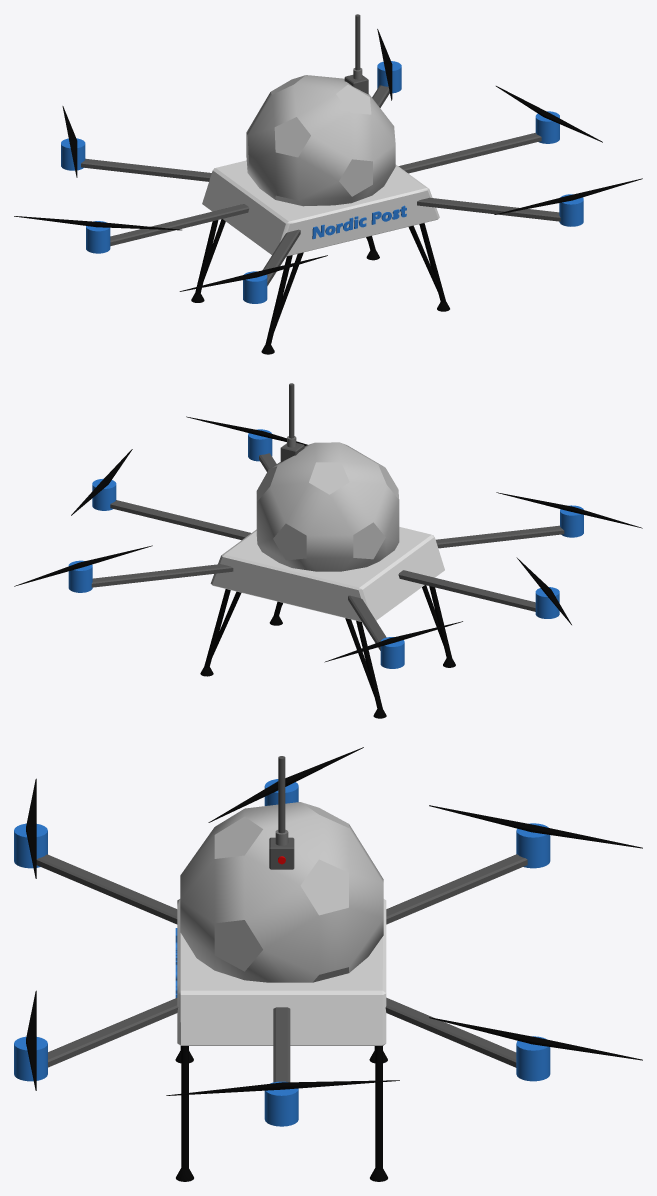
File: Nordic Post Drone.fbx
3 views of the same model, one above another, from view 1: azimuth 30°, elevation 25°; view 2: azimuth 150°, elevation 25°; view 3: azimuth 270°, elevation 25° (orthographic). The views are drawn at different scales.
Parts seen in each view (by area): view 1: pPlatonic1, pCube5, pCube2, pCube4, pCube3, typeMesh1, pCylinder3, pCylinder4, pCylinder8, pCube9, pCylinder7, pCylinder5 (+5 smaller); view 2: pPlatonic1, pCube5, pCube2, pCube3, pCube4, pCylinder5, pCylinder6, pCylinder3, pCylinder4, pCylinder7, pCylinder8, pCube8 (+3 smaller); view 3: pPlatonic1, pCube5, pCube3, pCube4, pCube2, pCylinder7, pCylinder6, pCylinder5, pCylinder8, pCube10, pCube13, pCube12 (+8 smaller).
Part boxes in pixels (bbox=[...]): pPlatonic1: bbox=[246, 75, 395, 206]; pCube5: bbox=[202, 160, 439, 256]; pCube2: bbox=[110, 133, 541, 246]; pCube4: bbox=[81, 158, 560, 221]; pCube3: bbox=[263, 85, 389, 285]; typeMesh1: bbox=[312, 205, 406, 239]; pCylinder3: bbox=[243, 271, 267, 303]; pCylinder4: bbox=[86, 221, 110, 253]; pCylinder8: bbox=[559, 194, 583, 226]; pCube9: bbox=[14, 216, 181, 230]; pCylinder7: bbox=[535, 111, 559, 143]; pCylinder5: bbox=[61, 138, 85, 170]; pPlatonic1: bbox=[256, 442, 399, 571]; pCube5: bbox=[210, 527, 444, 621]; pCube2: bbox=[110, 500, 535, 611]; pCube3: bbox=[91, 525, 564, 587]; pCube4: bbox=[259, 453, 386, 650]; pCylinder5: bbox=[380, 637, 404, 668]; pCylinder6: bbox=[68, 560, 92, 592]; pCylinder3: bbox=[560, 505, 583, 537]; pCylinder4: bbox=[535, 587, 559, 618]; pCylinder7: bbox=[92, 478, 116, 510]; pCylinder8: bbox=[248, 429, 272, 461]; pCube8: bbox=[496, 492, 642, 528]; pPlatonic1: bbox=[180, 802, 383, 982]; pCube5: bbox=[177, 899, 386, 1045]; pCube3: bbox=[36, 854, 516, 1067]; pCube4: bbox=[48, 854, 527, 1067]; pCube2: bbox=[273, 1007, 290, 1082]; pCylinder7: bbox=[264, 1081, 298, 1126]; pCylinder6: bbox=[516, 1036, 550, 1081]; pCylinder5: bbox=[516, 823, 550, 868]; pCylinder8: bbox=[14, 1036, 47, 1081]; pCube10: bbox=[429, 805, 642, 848]; pCube13: bbox=[429, 1017, 642, 1060]; pCube12: bbox=[166, 1080, 399, 1095].
Size of the model in its own units: 48.62 by 25.13 by 37.07.
